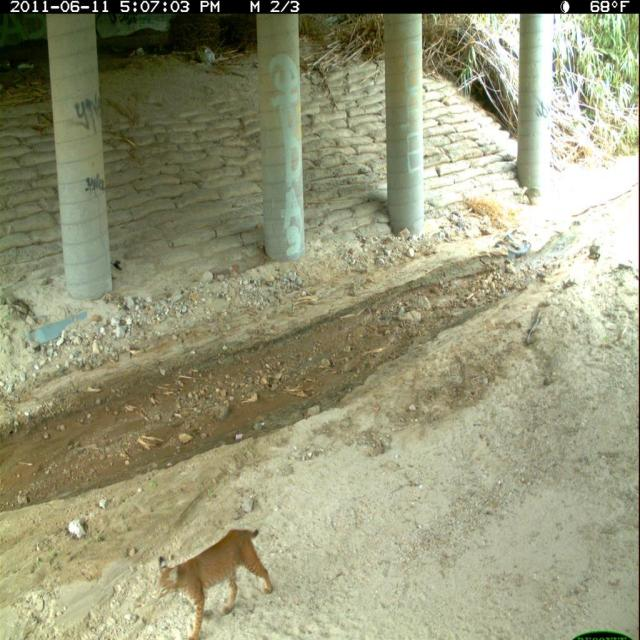bobcat: (156, 525, 275, 640)
